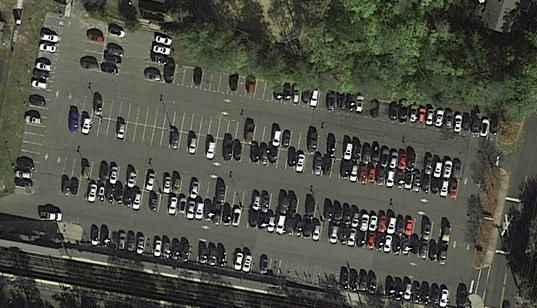parkingspot: (58, 175, 451, 266), (73, 92, 464, 183), (61, 156, 452, 246), (68, 112, 460, 201), (163, 63, 500, 142), (80, 222, 294, 280), (14, 30, 63, 190), (318, 265, 470, 308), (143, 30, 173, 84), (99, 25, 128, 76), (80, 23, 109, 73), (295, 262, 318, 287), (43, 16, 66, 29)
